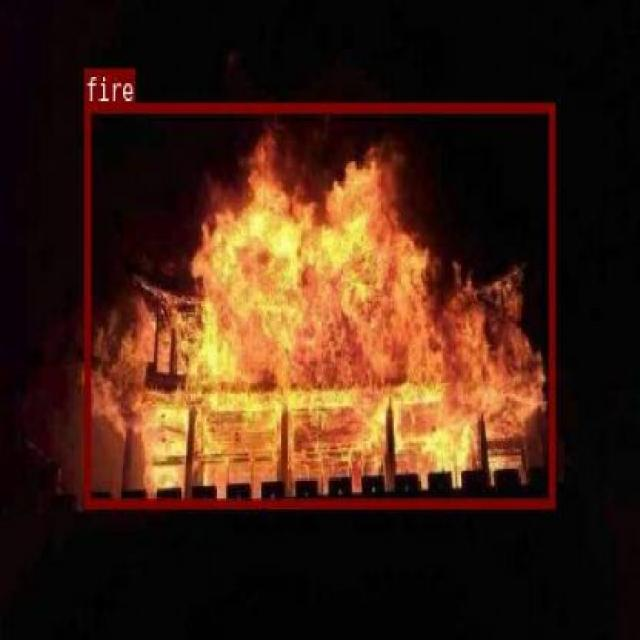fire: (82, 102, 553, 507)
